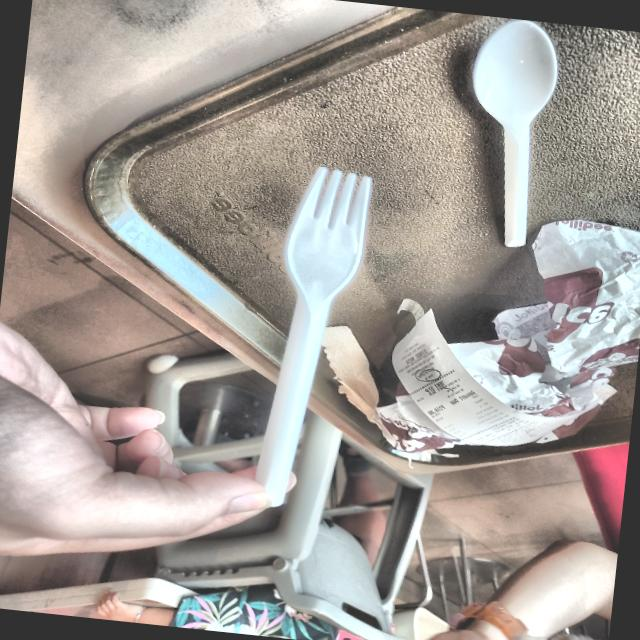plastic utensil: (256, 167, 372, 506), (473, 19, 558, 246)
